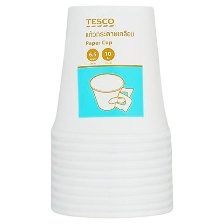paper_cup: (42, 0, 178, 224)
